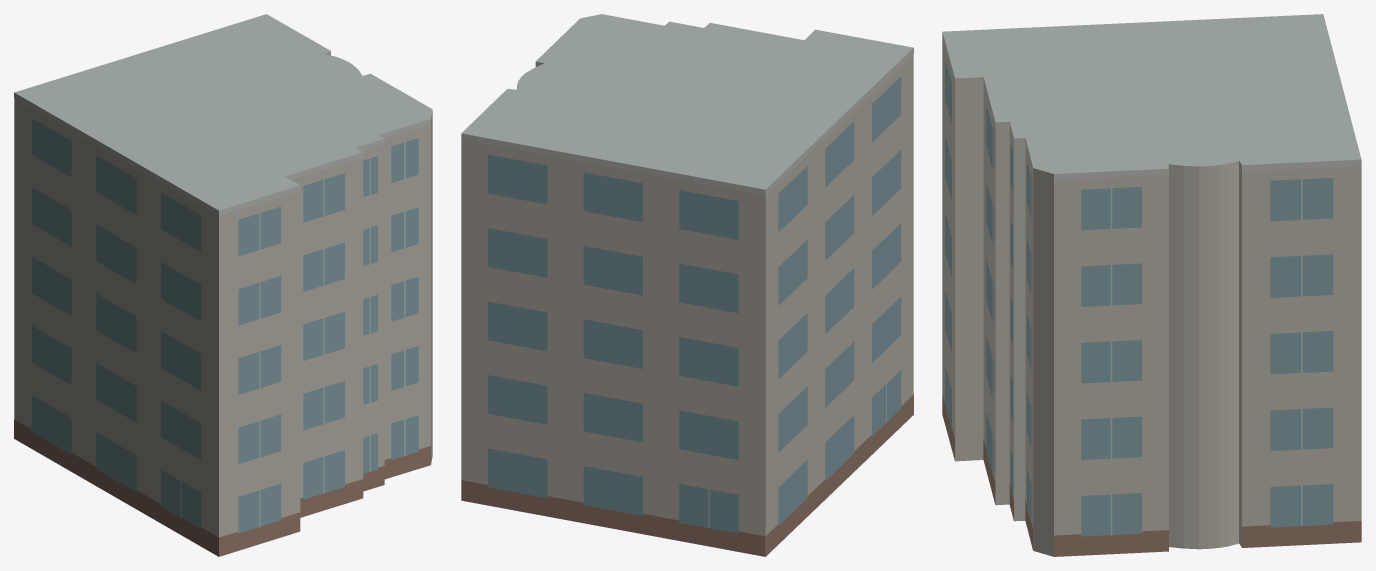
The model's file is survey-upis-32927028.glb.
3 views of the same model, side by side, from view 1: azimuth 30°, elevation 25°; view 2: azimuth 150°, elevation 25°; view 3: azimuth 270°, elevation 25° (orthographic). The views are drawn at different scales.
Parts seen in each view (by area): view 1: survey-upis-32927028.tmp; view 2: survey-upis-32927028.tmp; view 3: survey-upis-32927028.tmp.
Boxes of the visible parts, x1,y1,x2,y2 form: survey-upis-32927028.tmp: (14, 14, 432, 556); survey-upis-32927028.tmp: (461, 14, 913, 556); survey-upis-32927028.tmp: (942, 14, 1361, 556).
Size of the model in its own units: 13.37 by 14.9 by 14.8.
